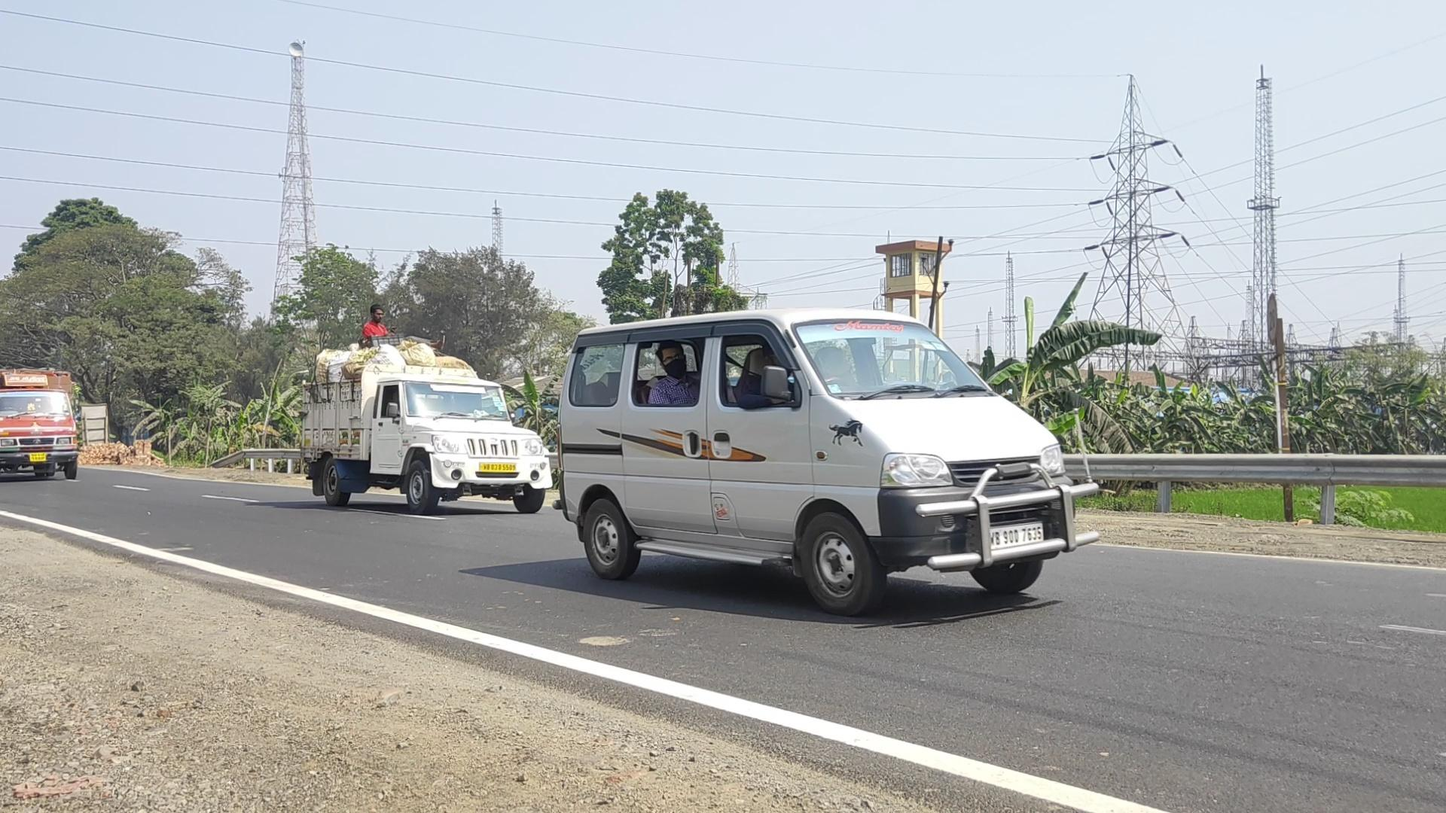truck: (1, 367, 78, 483)
van: (552, 307, 1099, 617), (299, 303, 553, 516)
